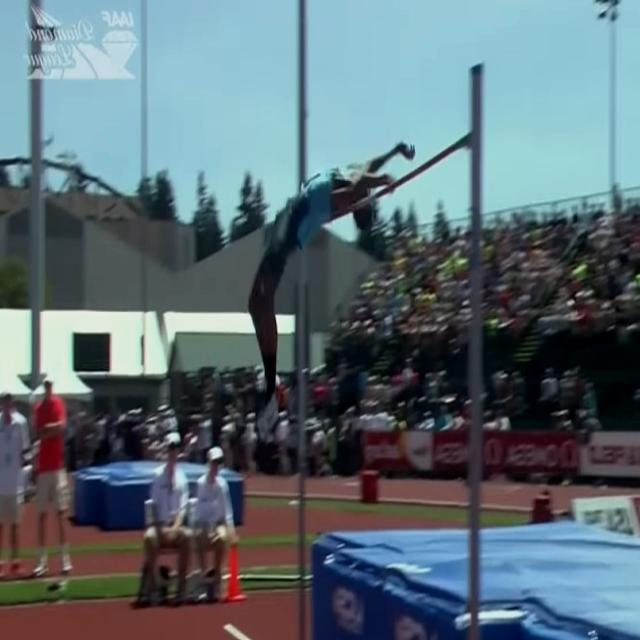jump: (250, 138, 416, 436)
